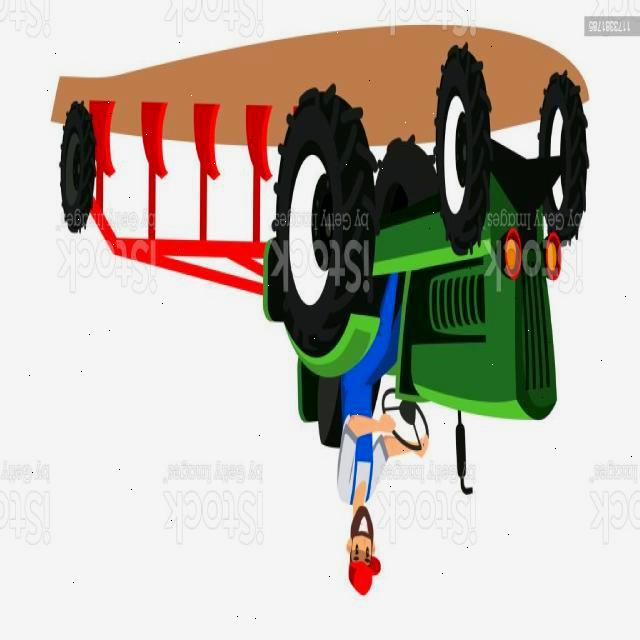Tratores - v5 YOLO V8L 2024-11-13: (260, 30, 604, 632)
